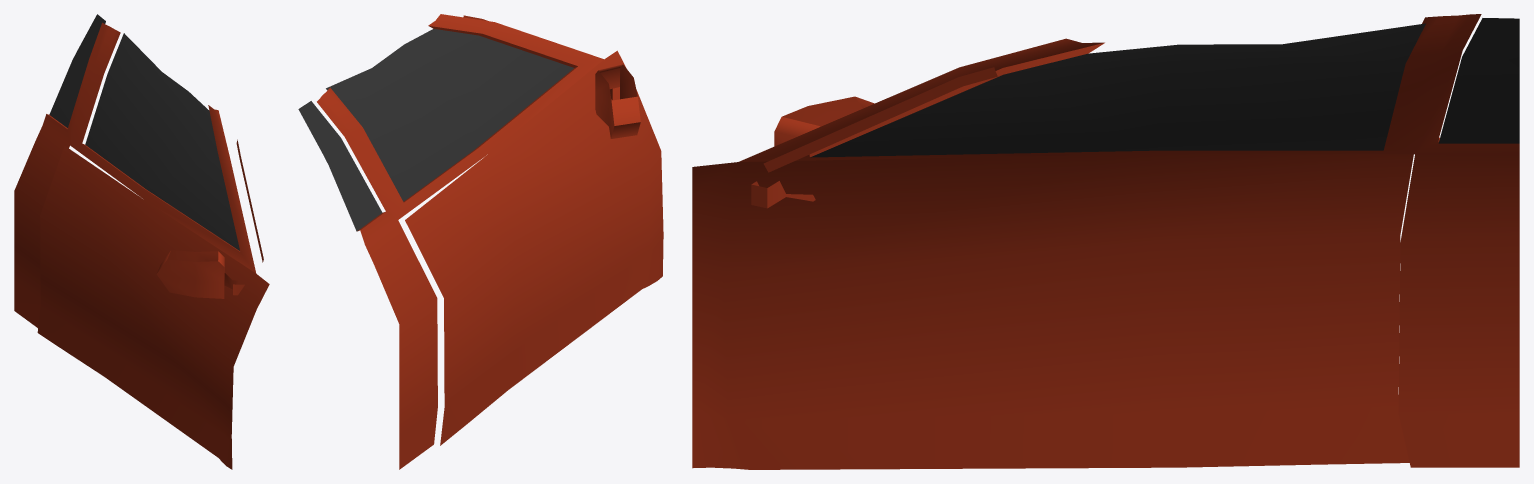
Rendered from suv-left.glb.
3 views of the same model, side by side, from view 1: azimuth 30°, elevation 25°; view 2: azimuth 150°, elevation 25°; view 3: azimuth 270°, elevation 25° (orthographic). The views are drawn at different scales.
Bounding box in the file's own units: 0.38 × 0.8862 × 1.26.
Materials: 1 (1 with a texture image).
